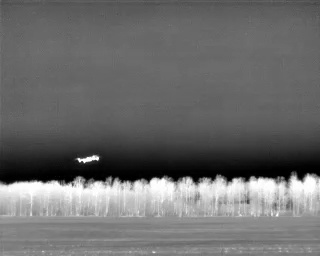DRONE: (72, 150, 104, 168)
